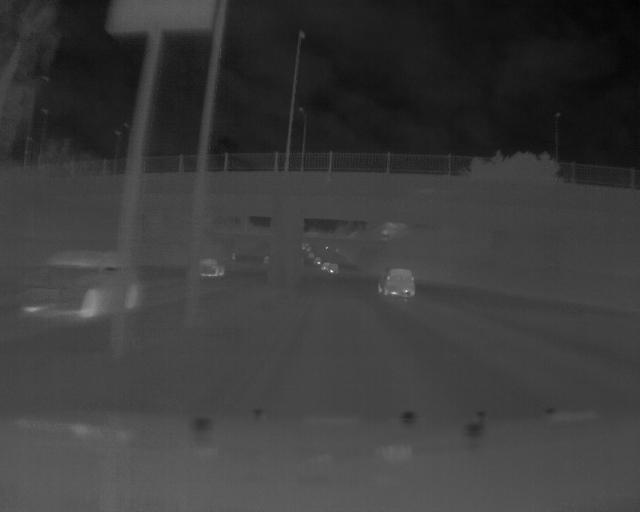car: (19, 248, 140, 320), (376, 265, 418, 298), (199, 256, 227, 278), (326, 263, 340, 274)
